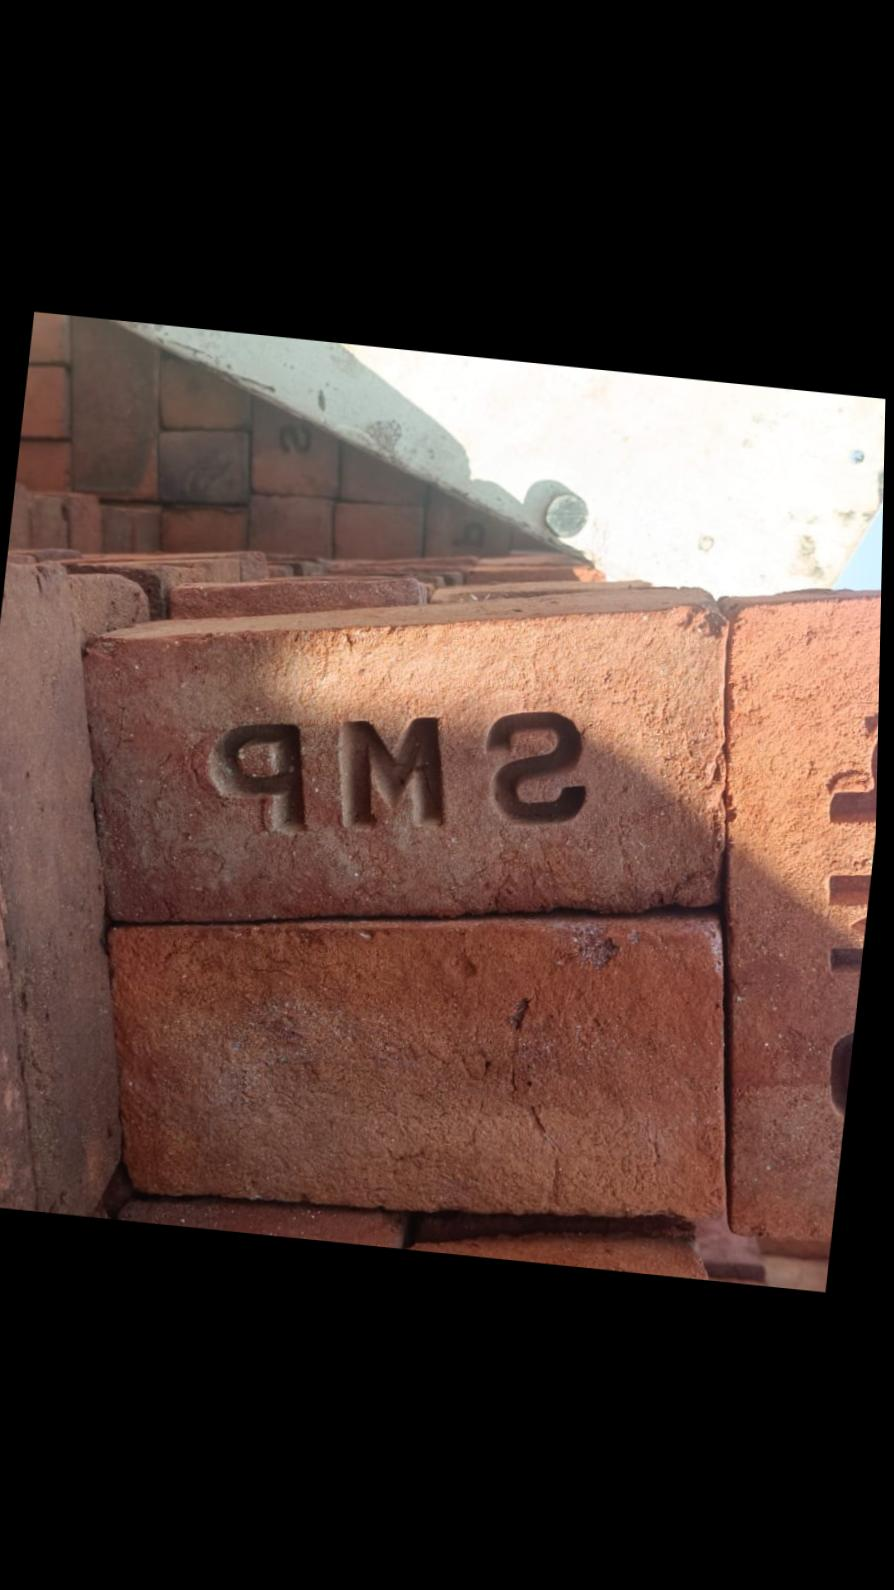brick: (57, 537, 756, 974), (82, 862, 755, 1251), (675, 554, 882, 1247)
